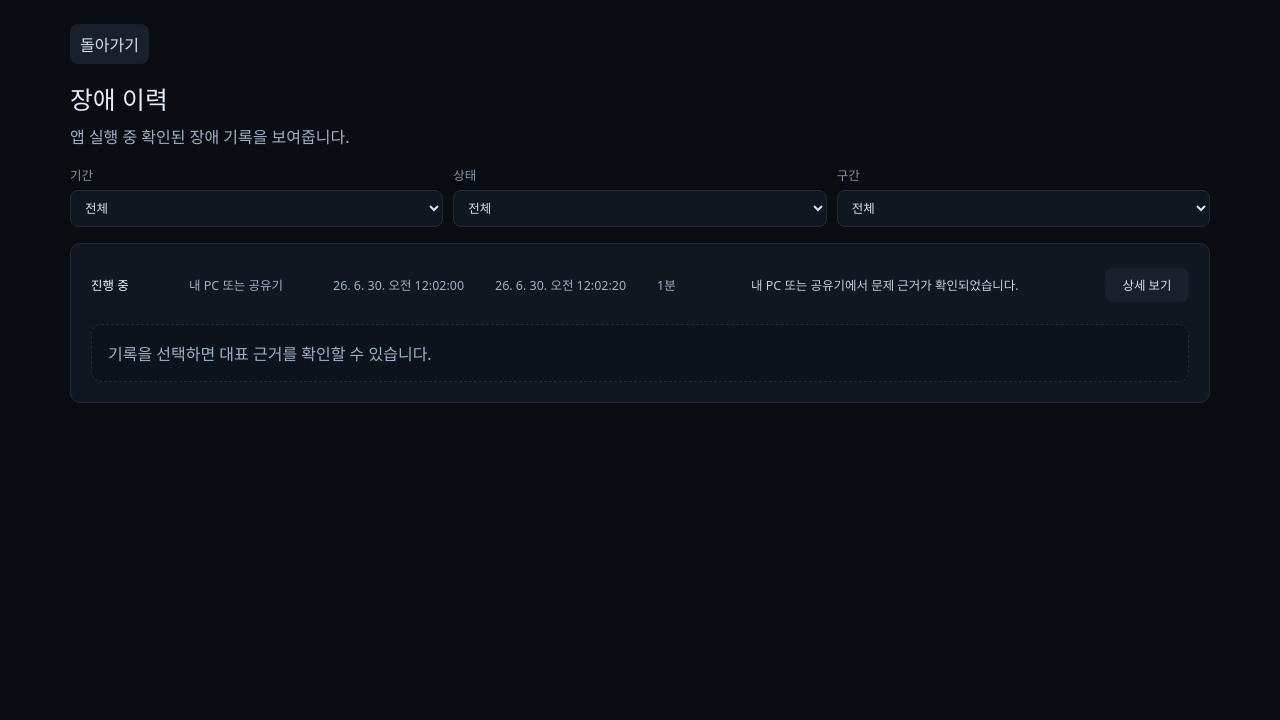
Test: NetworkIncidentHistoryPage › opens a read-only detail panel for a selected incident
Click the button "상세 보기".
click(1147, 285)  # box [1105,268,1189,302]
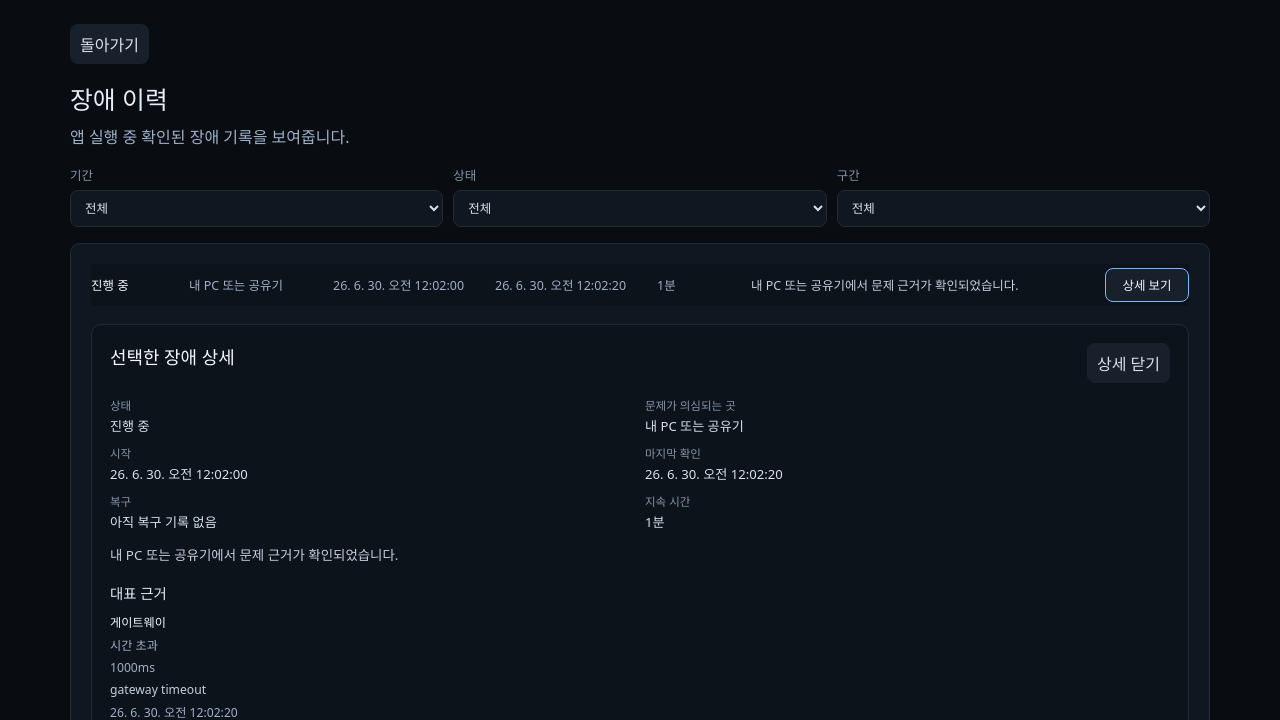
Now the text "진행 중" below "문제가 의심되는 곳" is shown, box [110,417,150,435]
Now the text "내 PC 또는 공유기" below "문제가 의심되는 곳" is shown, box [645,417,744,435]
Now the text "아직 복구 기록 없음" is shown, box [110,513,217,531]
